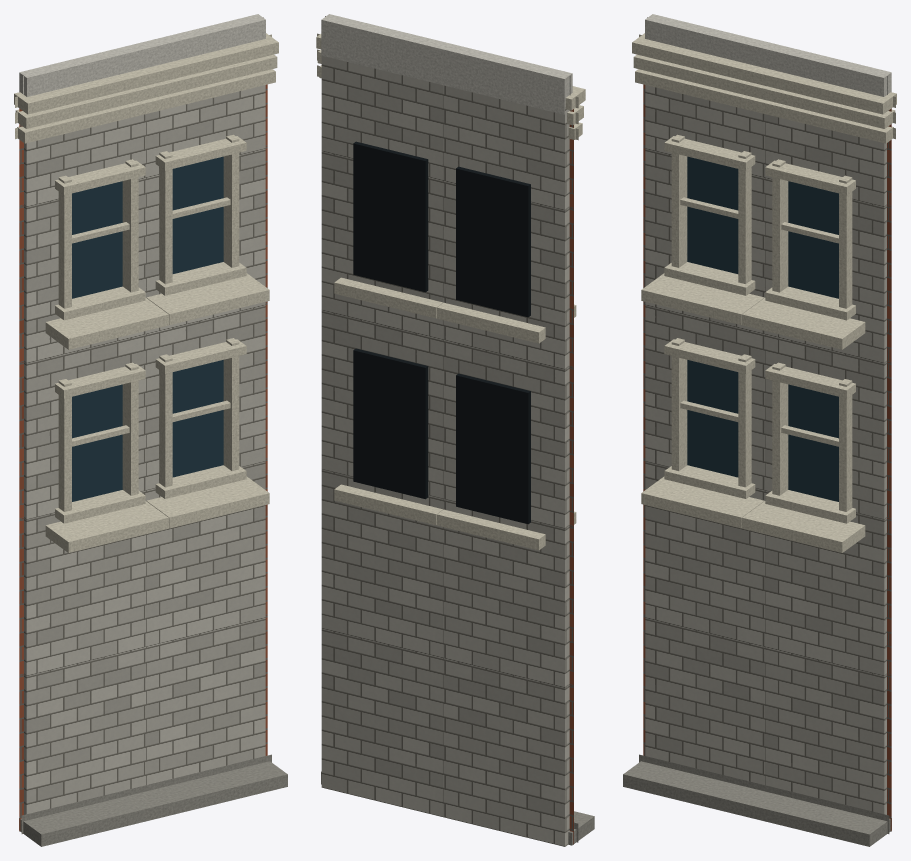
The model's file is RUNDWN16_lod2.glb.
The picture shows the model from 3 angles, left to right: view 1: azimuth 30°, elevation 25°; view 2: azimuth 150°, elevation 25°; view 3: azimuth 330°, elevation 25°; orthographic projection.
Visible parts, largest first — view 1: RUNDWN16_FRONT_LOD2; view 2: RUNDWN16_FRONT_LOD2; view 3: RUNDWN16_FRONT_LOD2.
Boxes of the visible parts, bbox=[...] form: RUNDWN16_FRONT_LOD2: bbox=[14, 14, 287, 846]; RUNDWN16_FRONT_LOD2: bbox=[316, 14, 594, 846]; RUNDWN16_FRONT_LOD2: bbox=[623, 14, 896, 846].
Size of the model in its own units: 3.44 by 9.66 by 0.85.
Materials: 8 (6 with a texture image).
